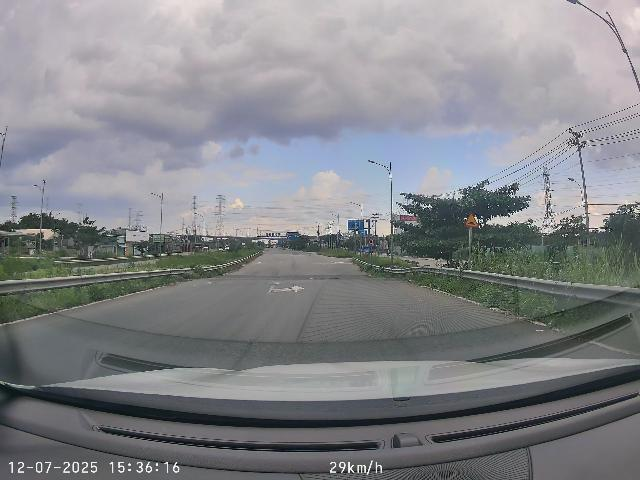221-duong-go-ghe: (464, 212, 479, 228)
